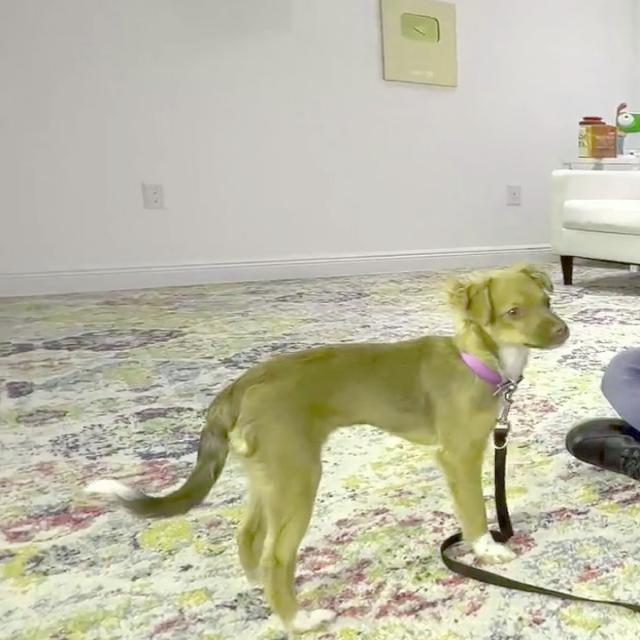Dog: (81, 264, 568, 634)
